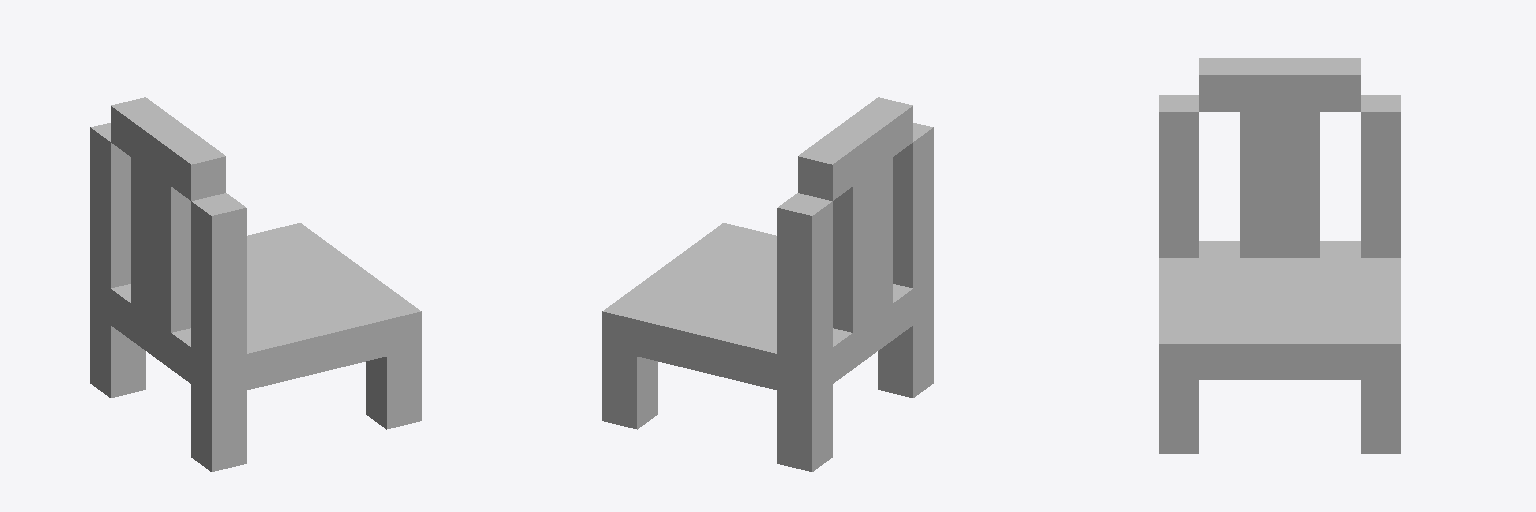
Rendered from Chest.obj.
3 views of the same model, side by side, from view 1: azimuth 30°, elevation 25°; view 2: azimuth 150°, elevation 25°; view 3: azimuth 270°, elevation 25° (orthographic).
Parts seen in each view (by area): view 1: object 1; view 2: object 1; view 3: object 1.
Boxes of the visible parts, <box> form: object 1: <box>90,97,421,471</box>; object 1: <box>602,97,933,471</box>; object 1: <box>1159,58,1400,453</box>.
Size of the model in its own units: 0.6 by 0.8 by 0.6.